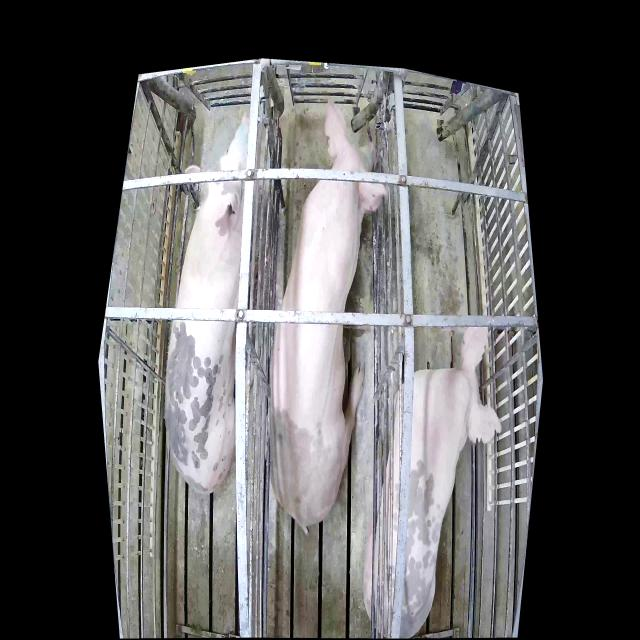pig: (270, 98, 387, 528), (362, 327, 502, 636), (167, 112, 261, 494)
